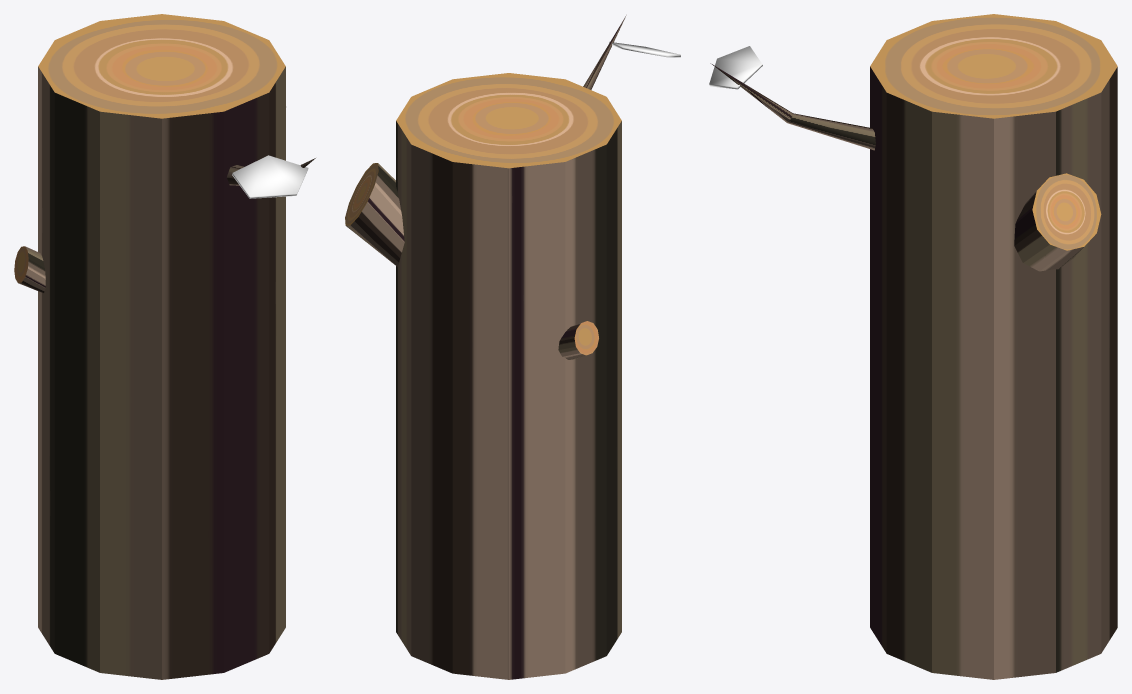
File: log_1.obj
3 views of the same model, side by side, from view 1: azimuth 30°, elevation 25°; view 2: azimuth 150°, elevation 25°; view 3: azimuth 270°, elevation 25° (orthographic). The views are drawn at different scales.
Visible parts, largest first — view 1: polySurface4; view 2: polySurface4; view 3: polySurface4.
Part boxes in pixels (x1,y1,x2,y2): polySurface4: (14,14,315,679); polySurface4: (345,15,680,679); polySurface4: (709,14,1117,679).
Size of the model in its own units: 124 by 254 by 165.
